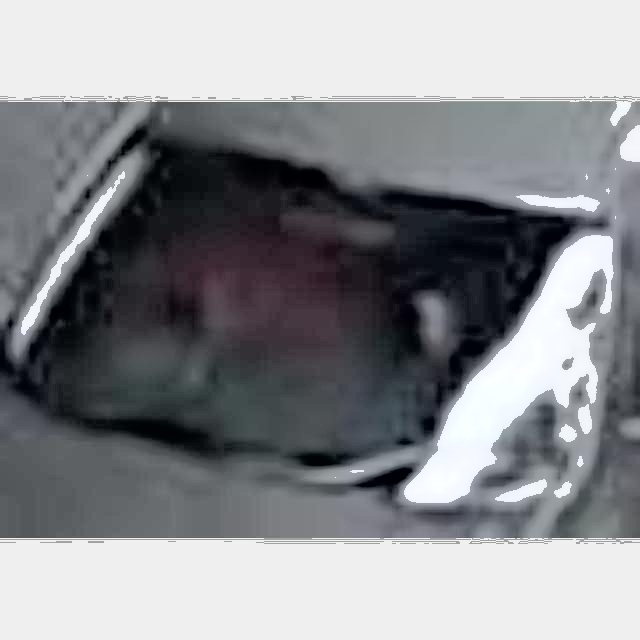tidak-pakai: (148, 179, 408, 390)
